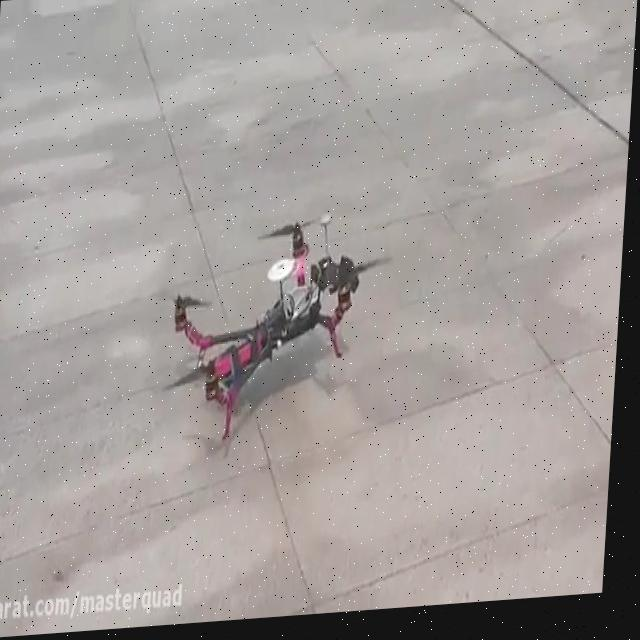drone: (132, 204, 404, 455)
